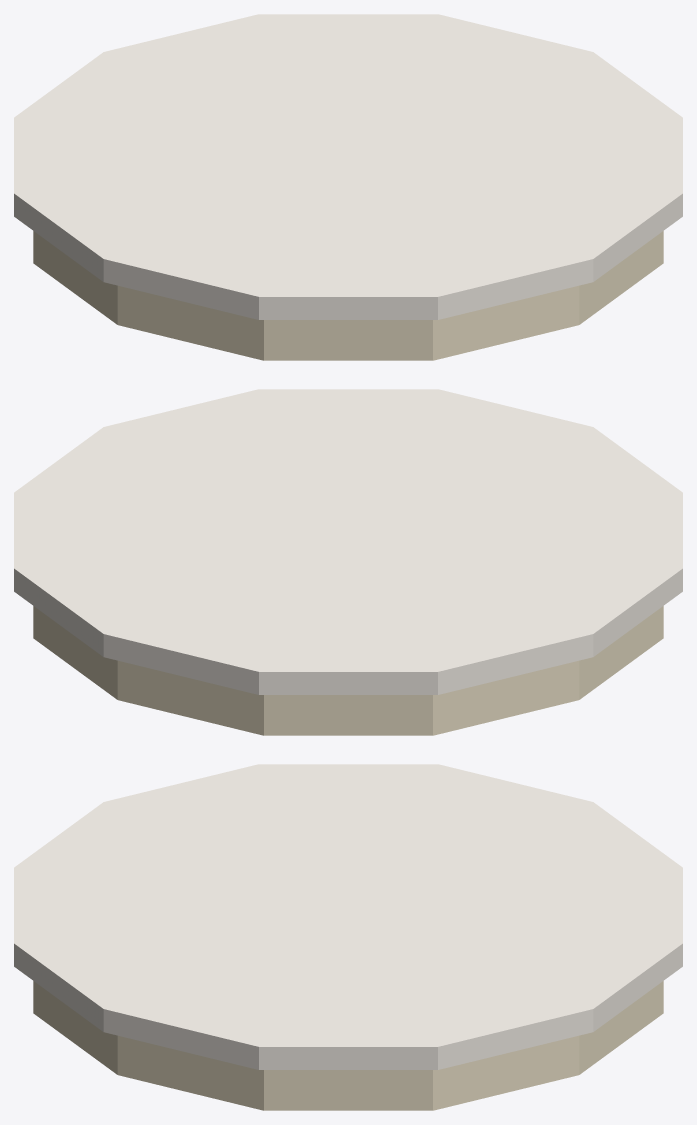
The model's file is pedestal-tier-2.glb.
3 views of the same model, one above another, from view 1: azimuth 30°, elevation 25°; view 2: azimuth 150°, elevation 25°; view 3: azimuth 270°, elevation 25° (orthographic).
Parts seen in each view (by area): view 1: shared-pedestal-tier-2; view 2: shared-pedestal-tier-2; view 3: shared-pedestal-tier-2.
Boxes of the visible parts, <box> form: shared-pedestal-tier-2: <box>14,14,682,360</box>; shared-pedestal-tier-2: <box>14,389,682,735</box>; shared-pedestal-tier-2: <box>14,764,682,1110</box>.
Bounding box in the file's own units: 23.57 × 2.8 × 23.57.
